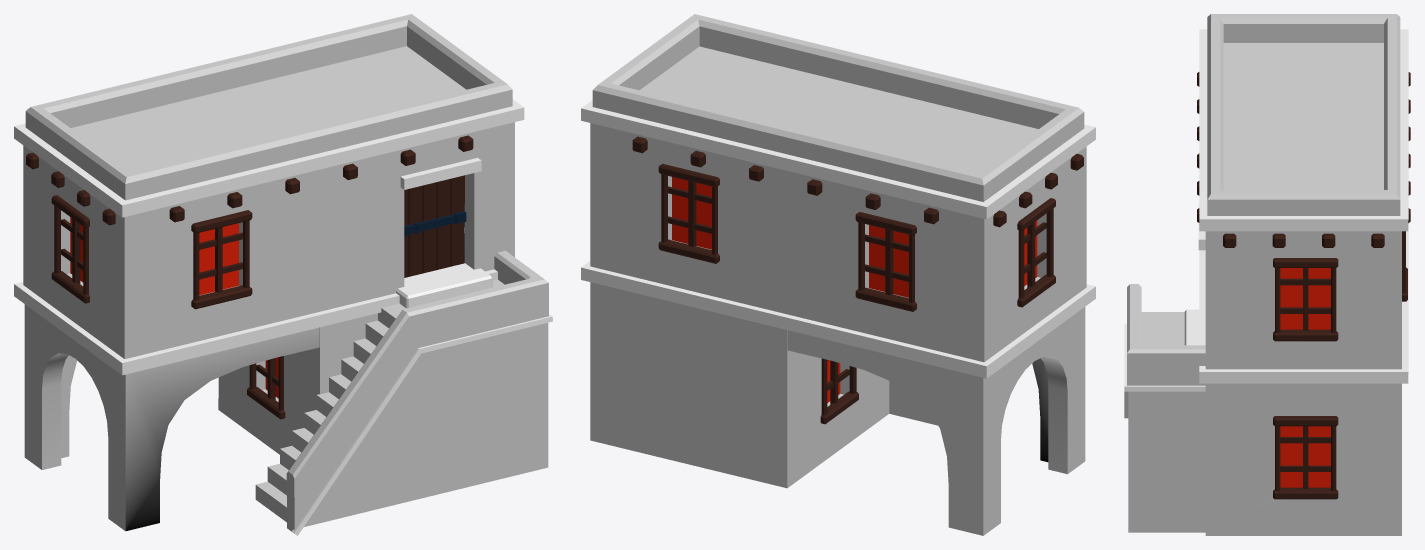
The model's file is civilian_house_34_b.FBX.
The picture shows the model from 3 angles, left to right: view 1: azimuth 30°, elevation 25°; view 2: azimuth 150°, elevation 25°; view 3: azimuth 270°, elevation 25°; orthographic projection. The views are drawn at different scales.
Visible parts, largest first — view 1: civilian_house_34_b; view 2: civilian_house_34_b; view 3: civilian_house_34_b.
Part boxes in pixels (<box>): civilian_house_34_b: <box>14,14,552,535</box>; civilian_house_34_b: <box>581,14,1095,535</box>; civilian_house_34_b: <box>1124,14,1410,535</box>.
Size of the model in its own units: 1038 by 873 by 657.
